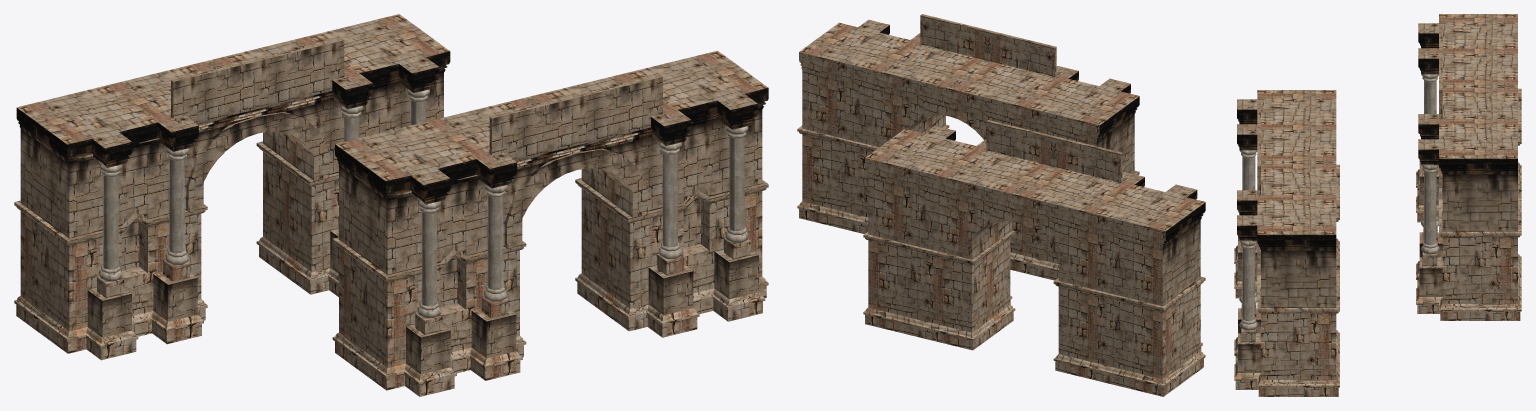
Rendered from ruins entrance_Scene.fbx.
3 views of the same model, side by side, from view 1: azimuth 30°, elevation 25°; view 2: azimuth 150°, elevation 25°; view 3: azimuth 270°, elevation 25° (orthographic). The views are drawn at different scales.
Visible parts, largest first — view 1: Mesh01.003, Mesh01; view 2: Mesh01, Mesh01.003; view 3: Mesh01.003, Mesh01.
Part boxes in pixels (box(x1,y1,x2,y2)): Mesh01.003: box(332, 50, 768, 396); Mesh01: box(14, 14, 450, 360); Mesh01: box(863, 120, 1205, 396); Mesh01.003: box(797, 14, 1139, 280); Mesh01.003: box(1234, 90, 1339, 396); Mesh01: box(1416, 14, 1521, 320).
Size of what is drawn, in the model's own units: 4.31 by 1.74 by 2.37.
4 materials, 4 textured.
